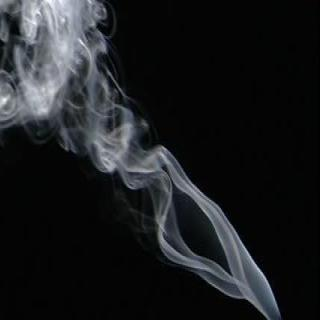smoke: (132, 156, 286, 320), (0, 0, 153, 140)
